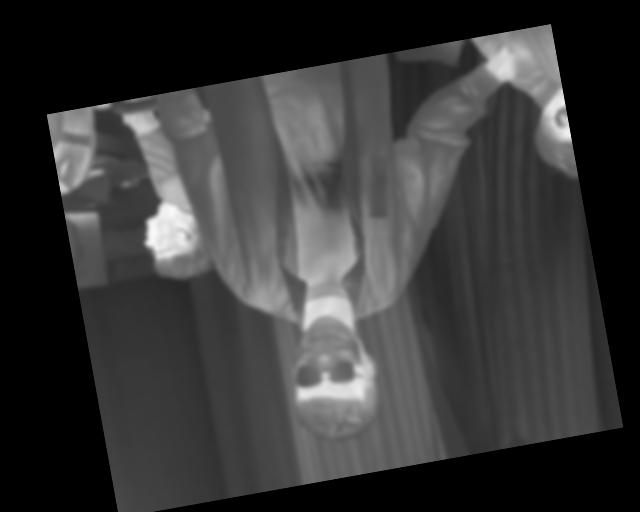face: (454, 84, 640, 302)
